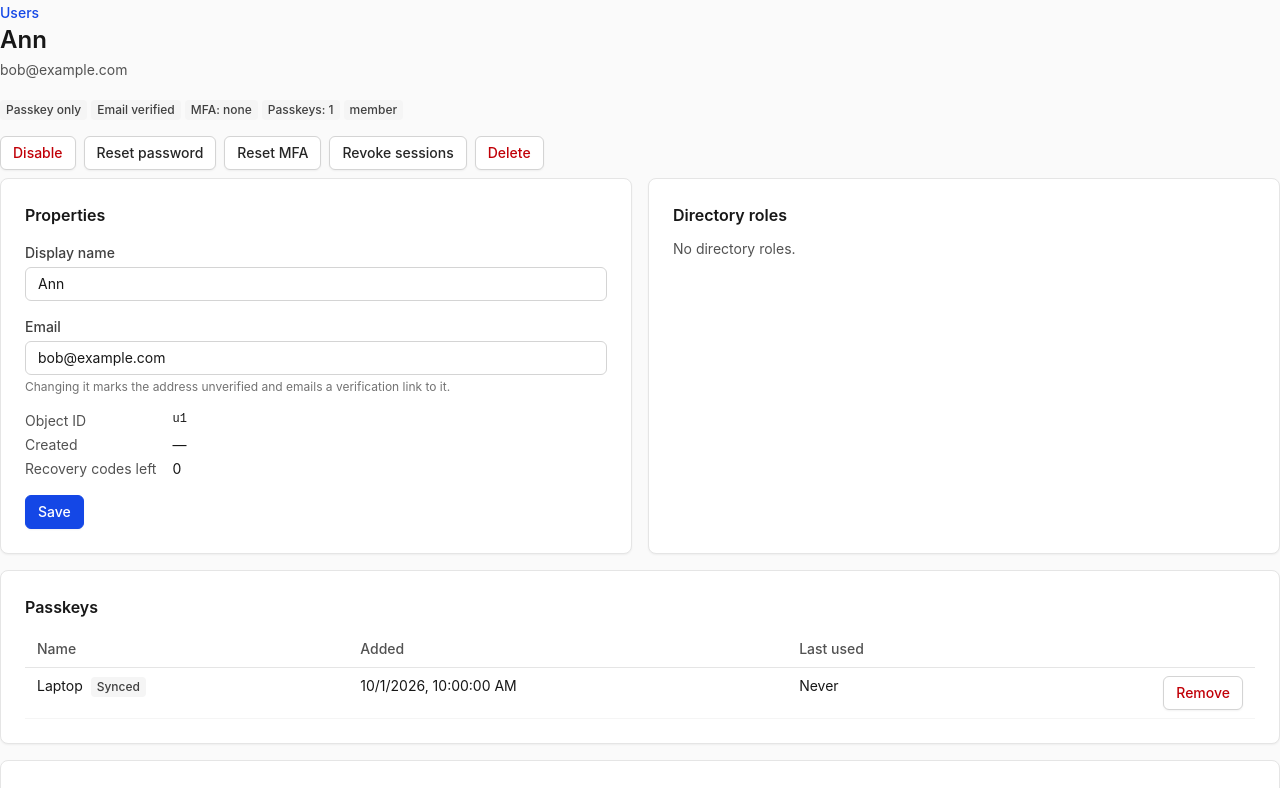
Test: UserDetail passkeys › explains why MFA cannot be reset for a passkey-only user
The width and height of the screenshot is (1280, 788).
Step 1. Click the button "Reset MFA" → [273, 153], box [224,136,321,170]
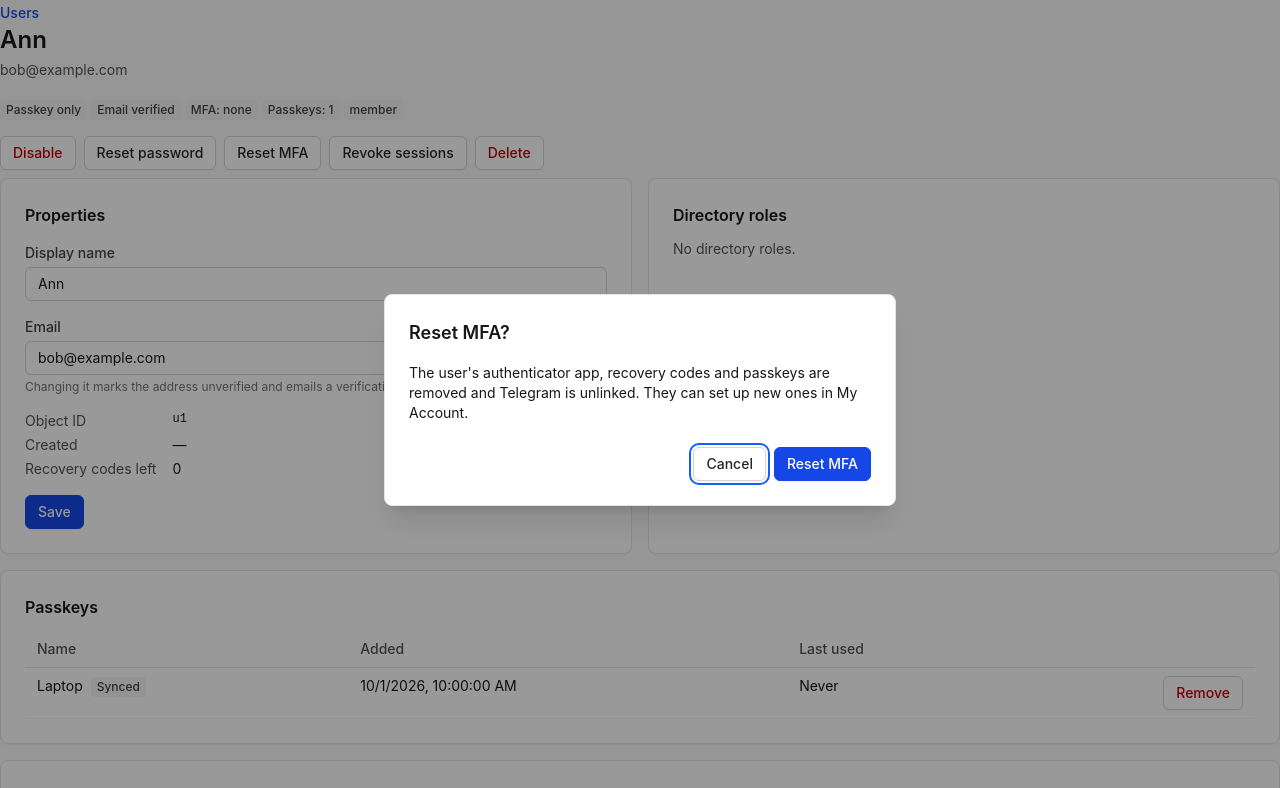
expect the text "recovery codes and passkeys are removed" is shown: met, box [409,364,858,421]
Step 2. Click the 2nd button "Reset MFA" → [822, 464], box [774,447,871,481]
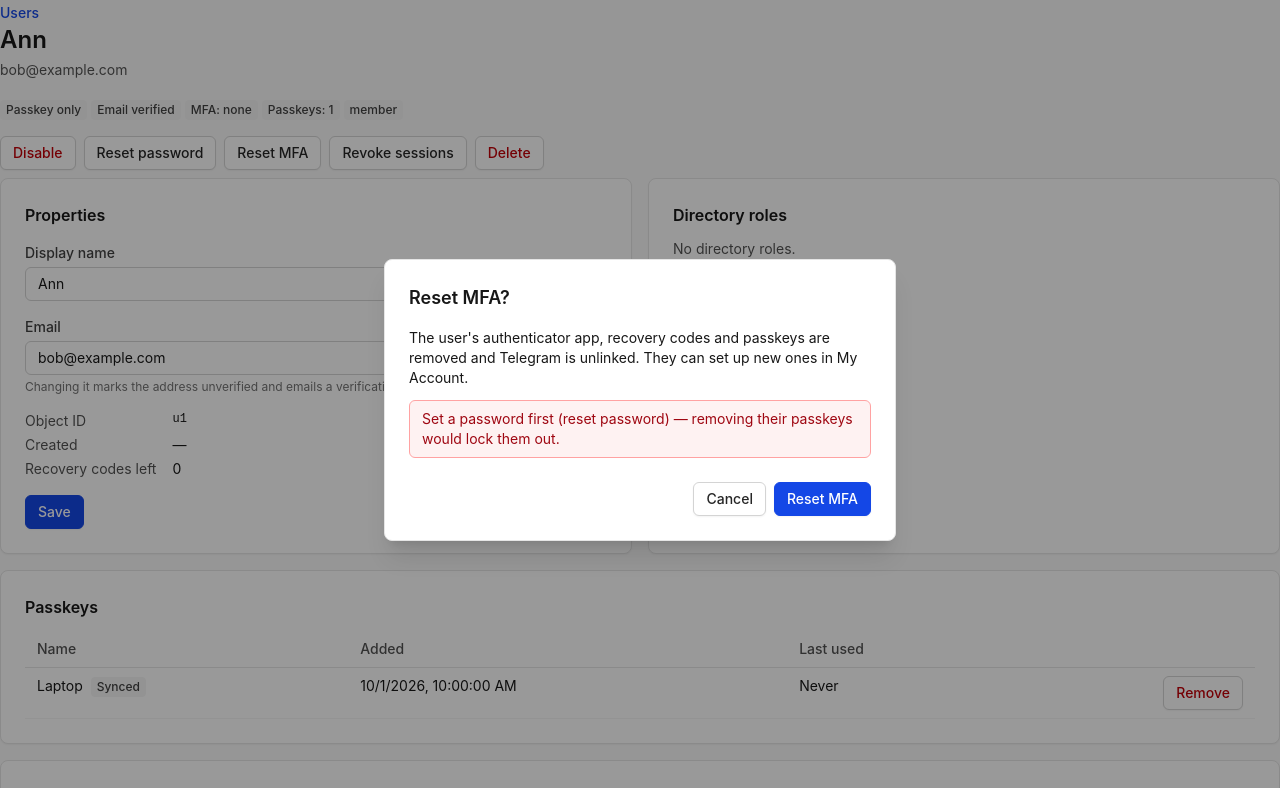
expect the message shows "Set a password first (reset password)": met, box [422,410,853,447]
